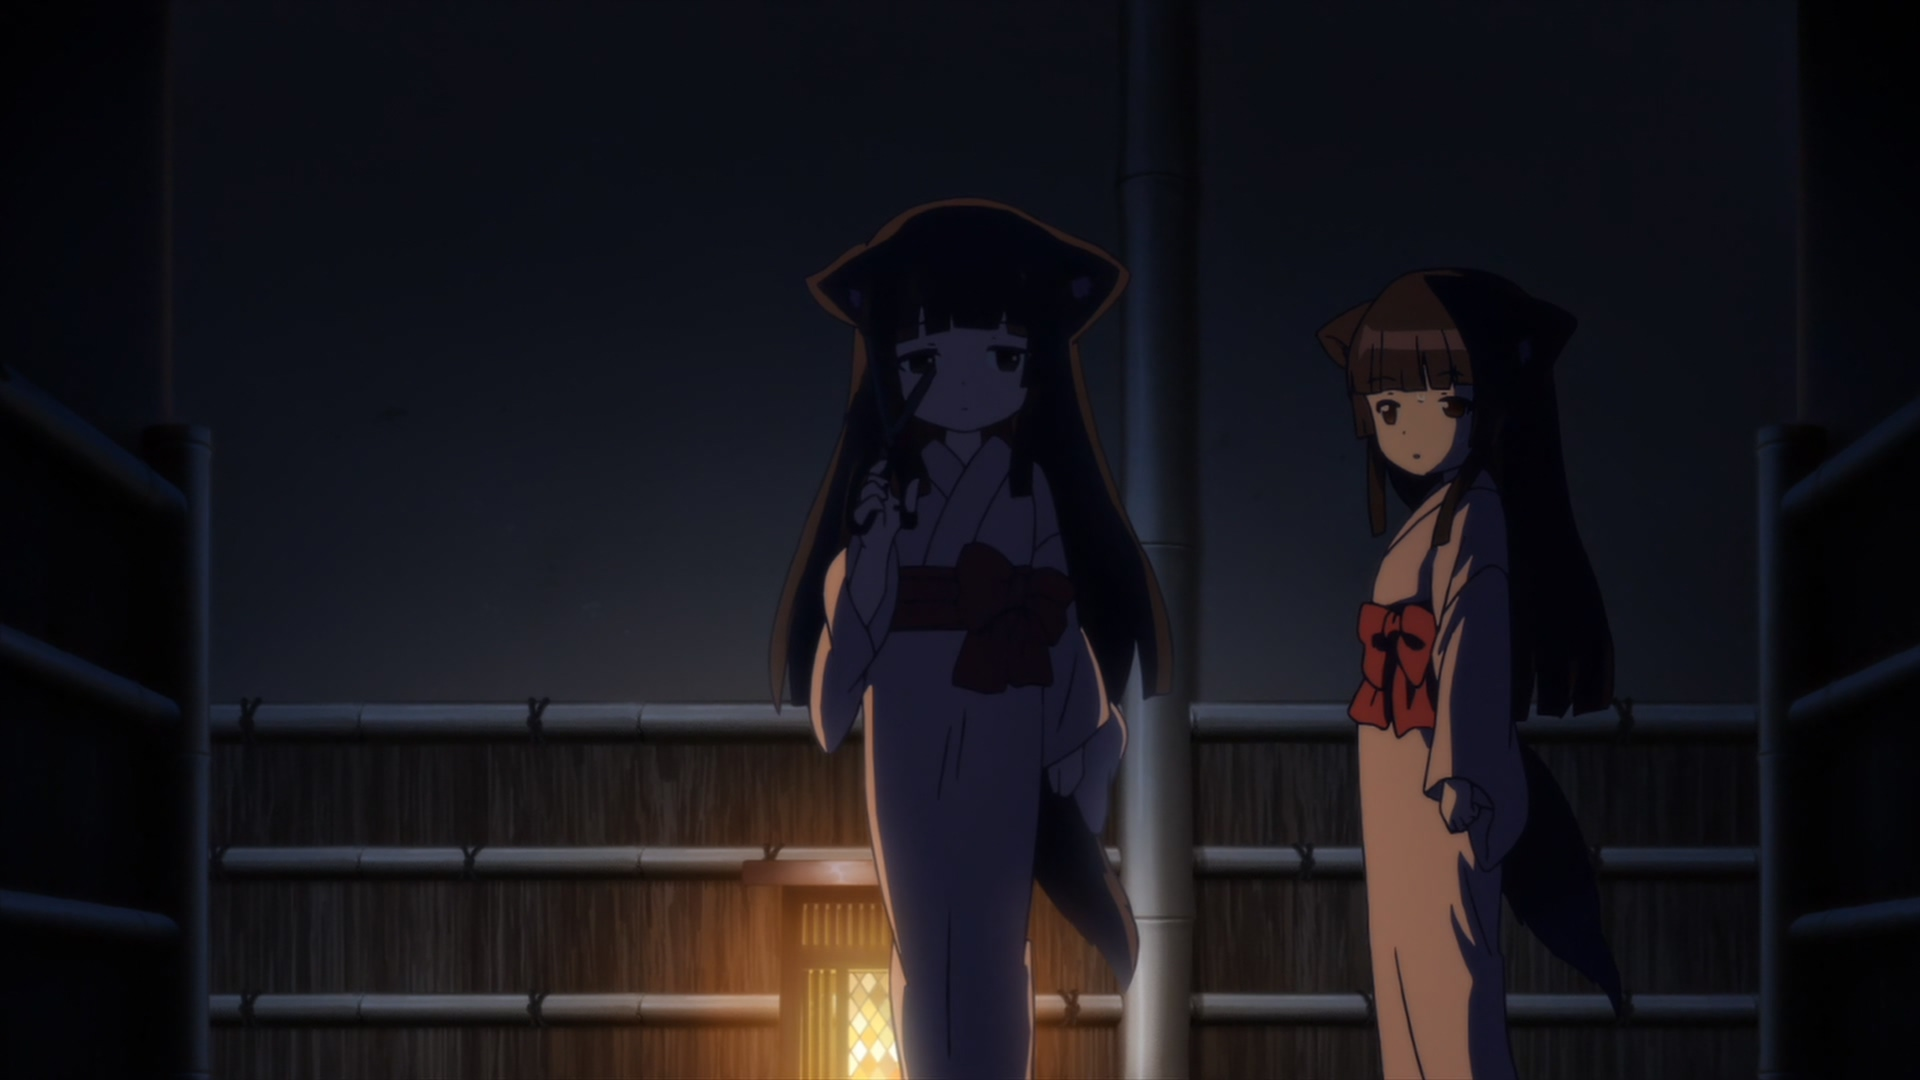樱: (771, 199, 1179, 1080), (1316, 266, 1633, 1080)
